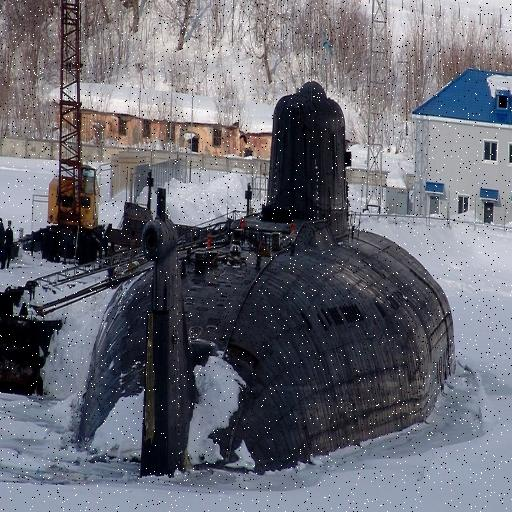submarine: (70, 75, 469, 482)
